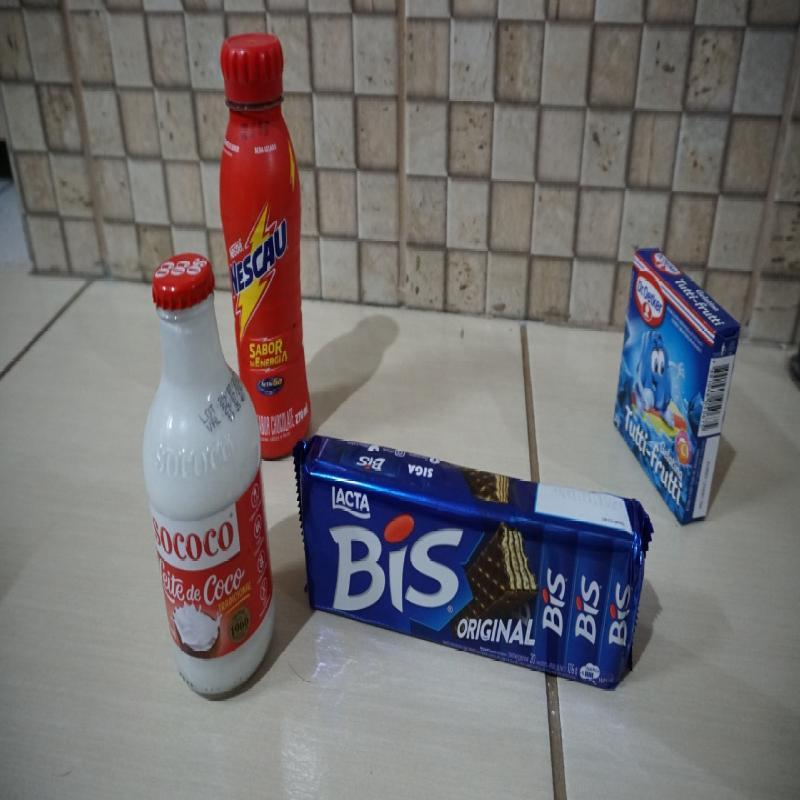Chocolate Milk: (246, 27, 314, 435)
Coconut Milk: (144, 256, 246, 690)
Gelatine: (609, 227, 741, 495)
